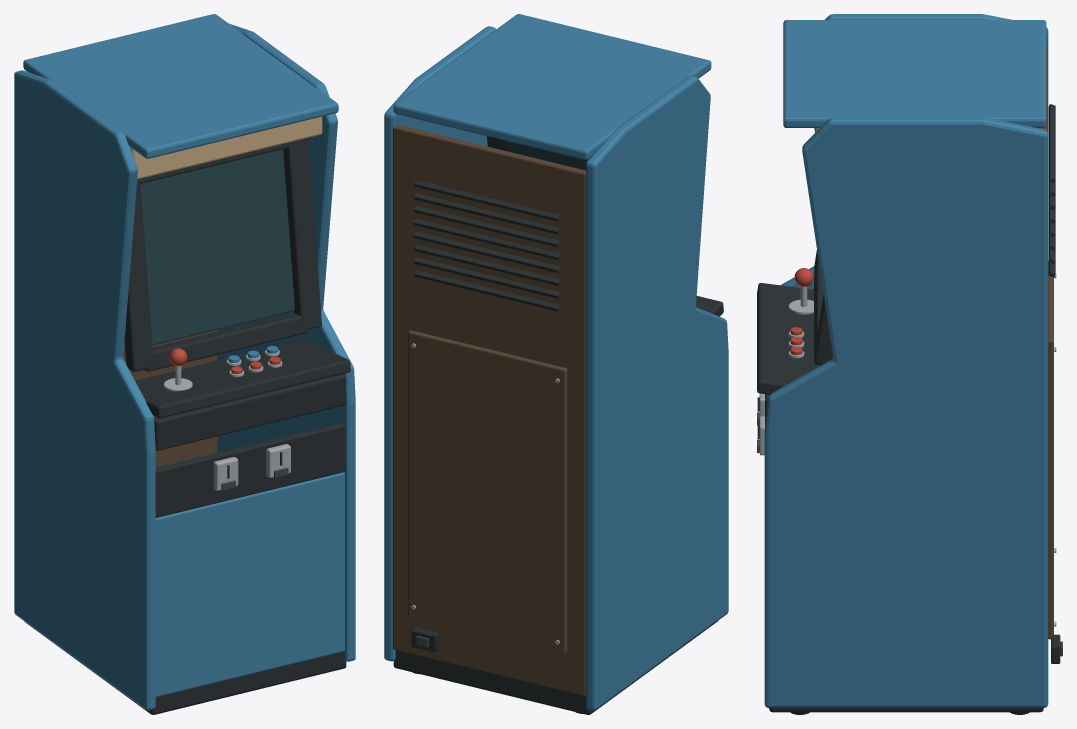
File: city-upright-arcade-cabinet.glb
3 views of the same model, side by side, from view 1: azimuth 30°, elevation 25°; view 2: azimuth 150°, elevation 25°; view 3: azimuth 270°, elevation 25° (orthographic). The views are drawn at different scales.
Parts seen in each view (by area): view 1: Assembly | Muted blue game details, Assembly | Graphite fittings, Assembly | Inactive display glass appearance, Assembly | Pale wood edge color, Assembly | Satin equipment steel, Assembly | Dark sealed wood color; view 2: Assembly | Muted blue game details, Assembly | Dark sealed wood color, Assembly | Graphite fittings, Assembly | Inactive display glass appearance; view 3: Assembly | Muted blue game details, Assembly | Graphite fittings, Assembly | Dark sealed wood color, Assembly | Satin equipment steel, Assembly | Muted red game details.
Part boxes in pixels (left/top/right/bottom): Assembly | Muted blue game details: left=14, top=14, right=355, bottom=710; Assembly | Graphite fittings: left=24, top=138, right=350, bottom=714; Assembly | Inactive display glass appearance: left=140, top=149, right=294, bottom=345; Assembly | Pale wood edge color: left=130, top=116, right=322, bottom=179; Assembly | Satin equipment steel: left=164, top=350, right=290, bottom=490; Assembly | Dark sealed wood color: left=123, top=330, right=217, bottom=467; Assembly | Muted blue game details: left=384, top=14, right=728, bottom=710; Assembly | Dark sealed wood color: left=393, top=124, right=585, bottom=696; Assembly | Graphite fittings: left=393, top=136, right=723, bottom=714; Assembly | Inactive display glass appearance: left=505, top=141, right=589, bottom=170; Assembly | Muted blue game details: left=764, top=14, right=1048, bottom=707; Assembly | Graphite fittings: left=757, top=104, right=1060, bottom=712; Assembly | Dark sealed wood color: left=1039, top=43, right=1053, bottom=639; Assembly | Satin equipment steel: left=759, top=273, right=1056, bottom=626; Assembly | Muted red game details: left=790, top=268, right=813, bottom=355.
Size of the model in its own units: 0.726 by 1.87 by 0.863.
